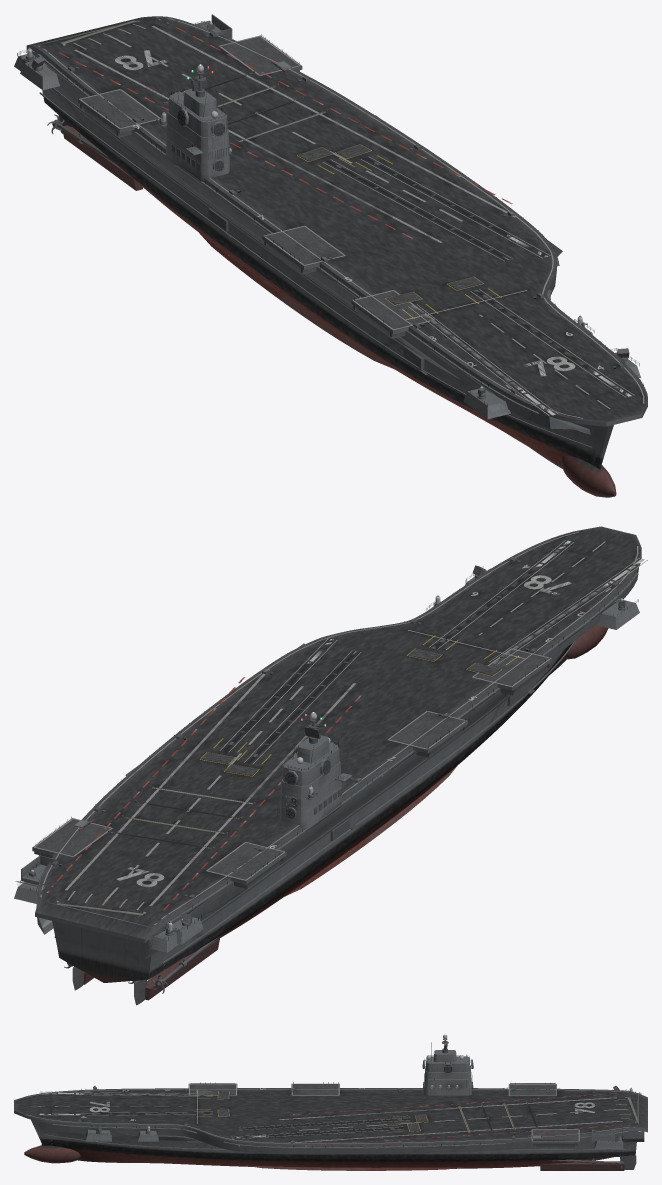
File: carrier_cvn.glb
3 renders of one model, top to bottom at view 1: azimuth 30°, elevation 25°; view 2: azimuth 150°, elevation 25°; view 3: azimuth 270°, elevation 25°, orthographic. The views are drawn at different scales.
Visible parts, largest first — view 1: cvn_deck, cvn_hull, cvn_markings, cvn_super, cvn_detail, cvn_hullnumbers; view 2: cvn_deck, cvn_hull, cvn_markings, cvn_super, cvn_detail, cvn_hullnumbers; view 3: cvn_deck, cvn_hull, cvn_markings, cvn_super, cvn_detail, cvn_hullnumbers.
Part boxes in pixels (box(x1,y1,x2,y2)): cvn_deck: box(26, 16, 647, 434); cvn_hull: box(34, 19, 616, 497); cvn_markings: box(38, 17, 644, 418); cvn_super: box(14, 14, 640, 419); cvn_detail: box(17, 20, 643, 459); cvn_hullnumbers: box(115, 50, 575, 376); cvn_deck: box(32, 526, 641, 959); cvn_hull: box(49, 625, 608, 1005); cvn_markings: box(34, 531, 647, 924); cvn_super: box(14, 565, 639, 952); cvn_detail: box(15, 551, 638, 970); cvn_hullnumbers: box(116, 575, 571, 887); cvn_deck: box(14, 1083, 647, 1154); cvn_hull: box(24, 1094, 638, 1170); cvn_markings: box(26, 1083, 638, 1146); cvn_super: box(52, 1034, 635, 1148); cvn_detail: box(45, 1034, 641, 1155); cvn_hullnumbers: box(89, 1075, 595, 1113).
Size of the model in its own units: 78 by 65.86 by 333.
19 materials, 19 textured.
